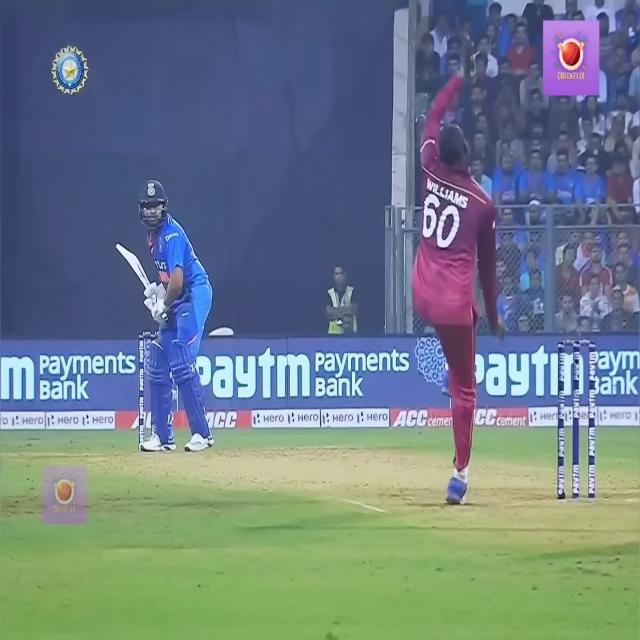partially_visible: (463, 338, 590, 402), (193, 349, 310, 410)
